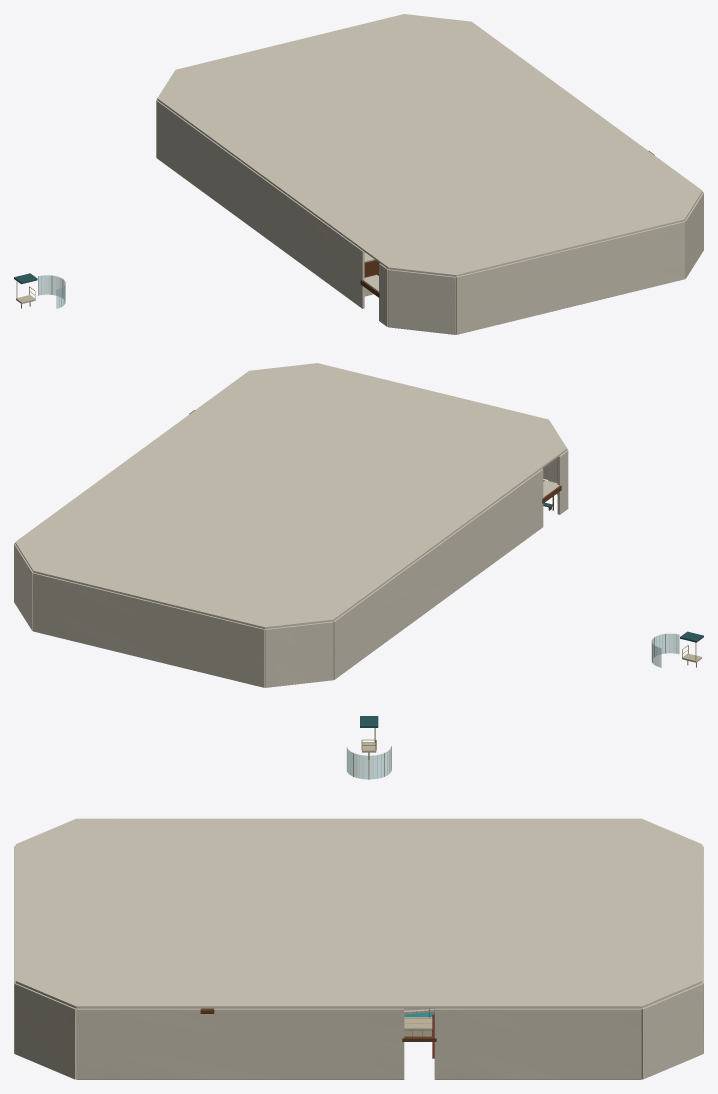
Rendered from AquaticCompletion_r002.glb.
3 views of the same model, one above another, from view 1: azimuth 30°, elevation 25°; view 2: azimuth 150°, elevation 25°; view 3: azimuth 270°, elevation 25° (orthographic). The views are drawn at different scales.
Parts seen in each view (by area): view 1: AQ6_BATCH_roof_asset_ASTRAEA_ivory_enamel, AQ6_BATCH_architecture_ASTRAEA_ivory_enamel, AQ6_BATCH_architecture_AQD_glass; view 2: AQ6_BATCH_roof_asset_ASTRAEA_ivory_enamel, AQ6_BATCH_architecture_ASTRAEA_ivory_enamel, AQ6_BATCH_architecture_AQD_glass; view 3: AQ6_BATCH_roof_asset_ASTRAEA_ivory_enamel, AQ6_BATCH_architecture_ASTRAEA_ivory_enamel, AQ6_BATCH_architecture_AQD_glass.
Boxes of the visible parts, bbox=[...] form: AQ6_BATCH_roof_asset_ASTRAEA_ivory_enamel: bbox=[157, 14, 702, 276]; AQ6_BATCH_architecture_ASTRAEA_ivory_enamel: bbox=[156, 98, 703, 334]; AQ6_BATCH_architecture_AQD_glass: bbox=[38, 275, 65, 308]; AQ6_BATCH_roof_asset_ASTRAEA_ivory_enamel: bbox=[15, 363, 567, 629]; AQ6_BATCH_architecture_ASTRAEA_ivory_enamel: bbox=[14, 449, 568, 687]; AQ6_BATCH_architecture_AQD_glass: bbox=[651, 633, 679, 667]; AQ6_BATCH_roof_asset_ASTRAEA_ivory_enamel: bbox=[15, 818, 702, 1008]; AQ6_BATCH_architecture_ASTRAEA_ivory_enamel: bbox=[14, 846, 703, 1079]; AQ6_BATCH_architecture_AQD_glass: bbox=[346, 747, 391, 779].
Bounding box in the file's own units: 79.52 × 9.15 × 68.32.
19 materials, 16 textured.
